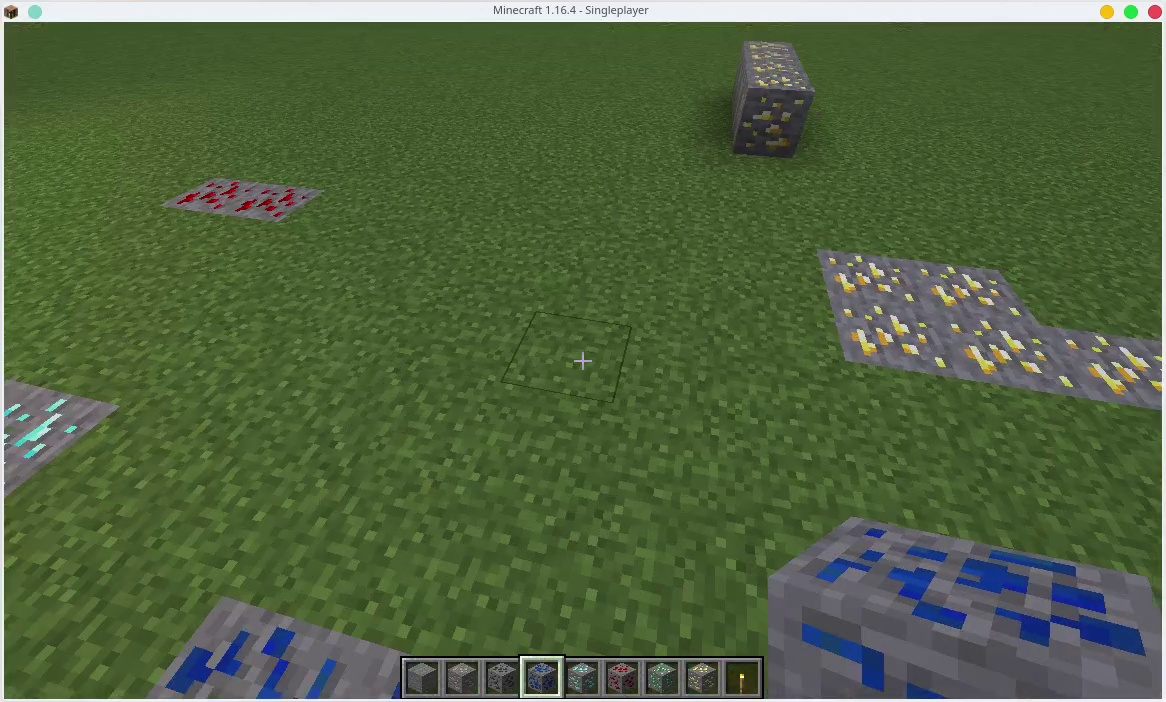gold: (960, 320, 1070, 397), (846, 310, 950, 379), (1071, 328, 1165, 402), (931, 260, 1022, 320), (738, 81, 806, 160), (835, 253, 922, 311), (740, 60, 801, 76), (689, 665, 715, 694), (732, 39, 793, 48), (731, 51, 799, 57)
